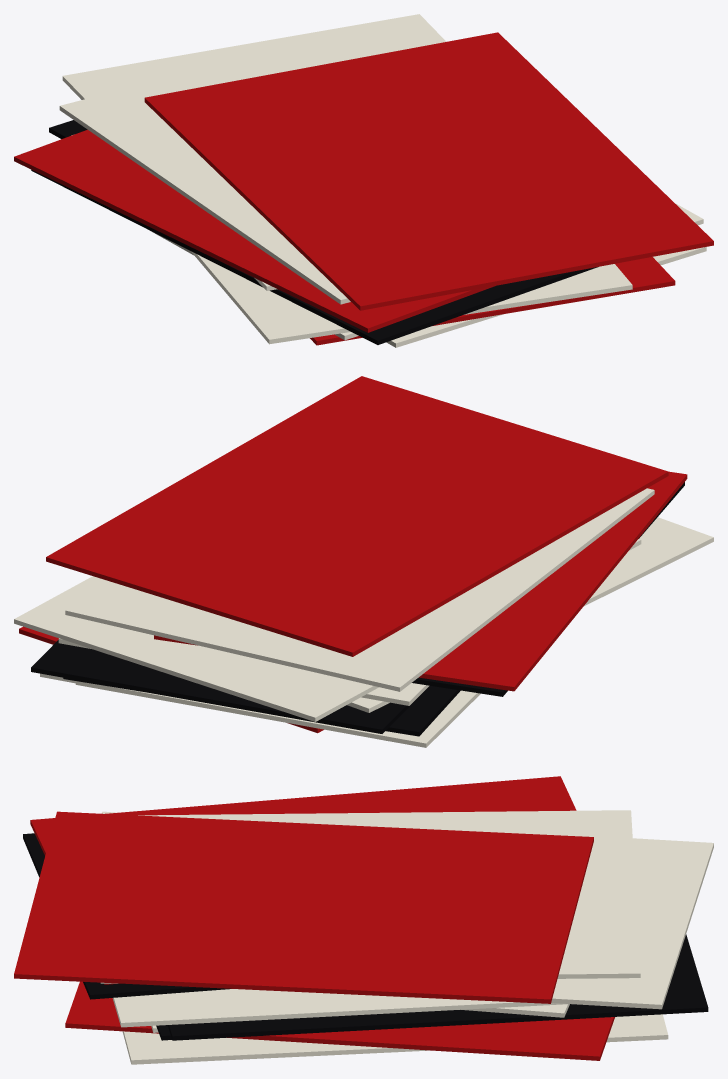
The model's file is Item_OR_Cards_09.glb.
The picture shows the model from 3 angles, top to bottom: view 1: azimuth 30°, elevation 25°; view 2: azimuth 150°, elevation 25°; view 3: azimuth 270°, elevation 25°; orthographic projection.
Parts seen in each view (by area): view 1: Item_OR_Cards_09; view 2: Item_OR_Cards_09; view 3: Item_OR_Cards_09.
Boxes of the visible parts, box(x1,y1,x2,y2) form: Item_OR_Cards_09: box(14, 14, 713, 347); Item_OR_Cards_09: box(14, 376, 713, 747); Item_OR_Cards_09: box(14, 776, 713, 1064).
Size of the model in its own units: 0.0909 by 0.0118 by 0.114.
